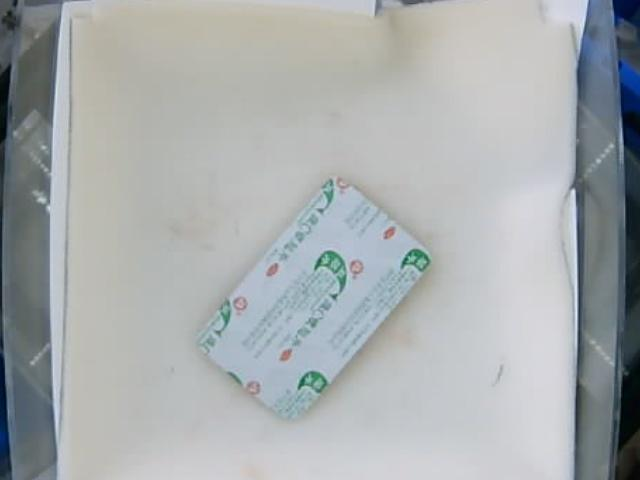Medicine: (196, 177, 429, 422)
